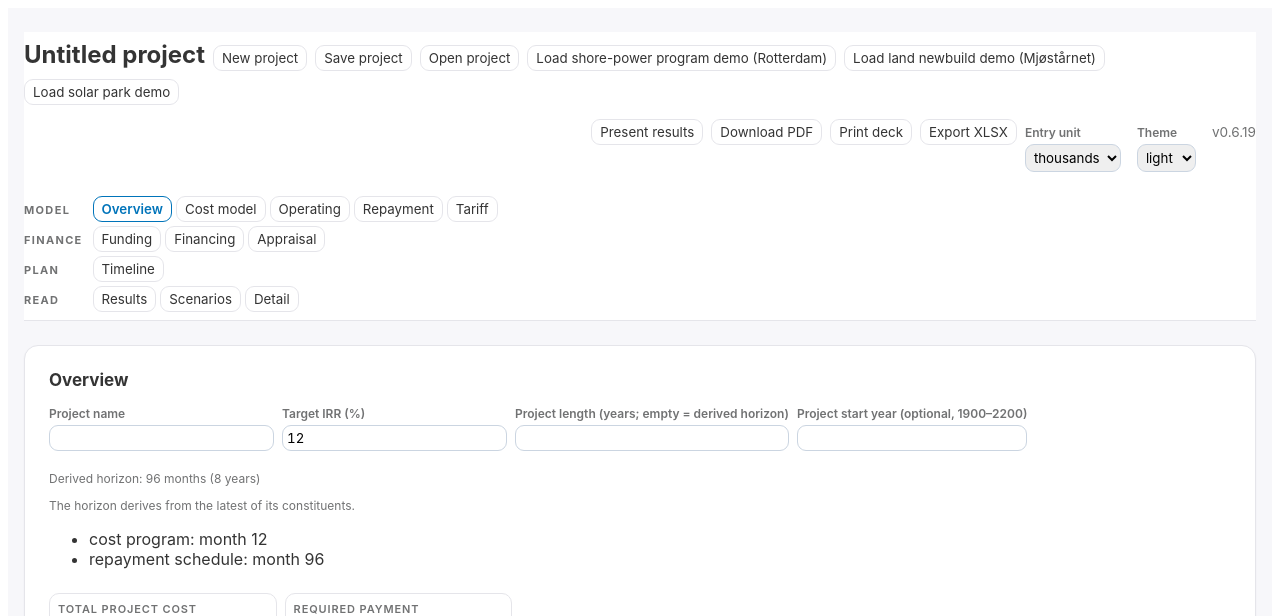
it: Task B: ANSWER-BAND / KPI-ROW / FIGURE-BAND / COVERAGE-BOTTOM › ANSWER-BAND: the statement equals its computed branch for the met case, tone-coded
Click the button "Load shore-power program demo (Rotterdam)". click: click(682, 58)
box: [527,45,836,71]
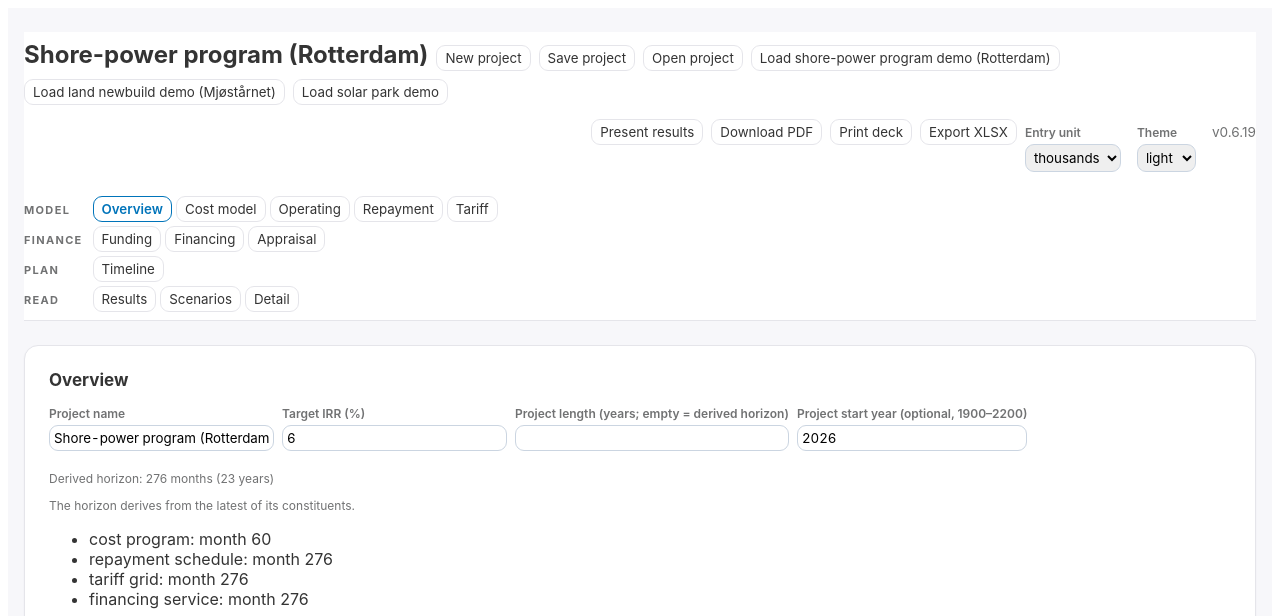
Click the button "Results". click: click(124, 299)
box: [92,286,156,312]
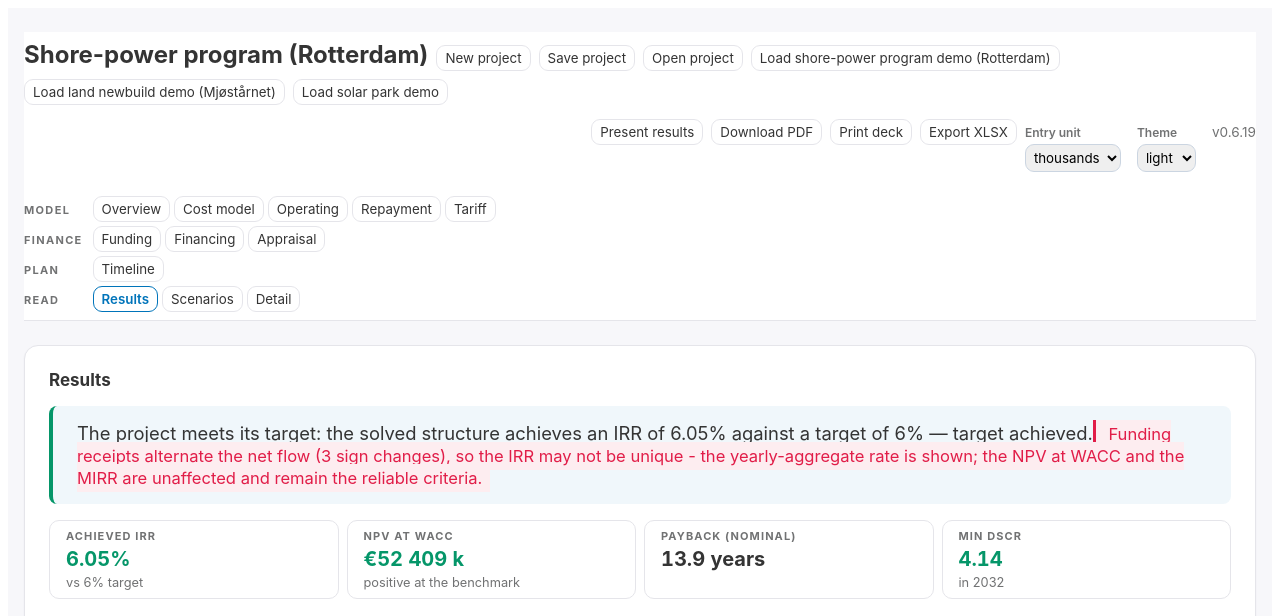
Result: the element with test id "goal-check" shows "target achieved" at [77,422,1093,444]
